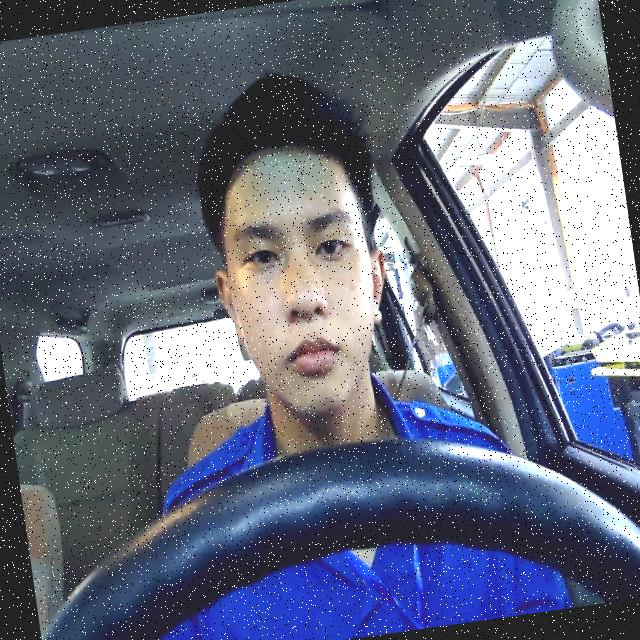focused: (196, 133, 404, 426)
